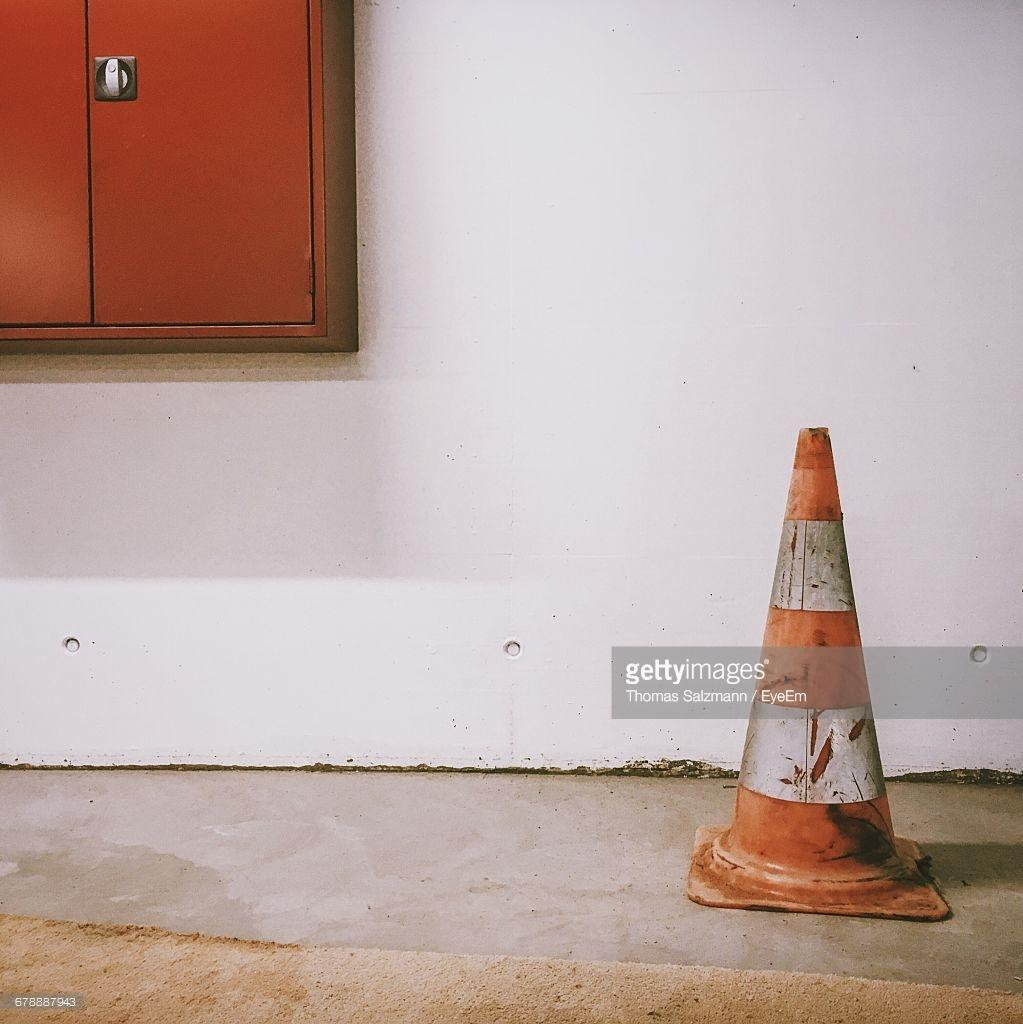Cone: (682, 425, 960, 935)
